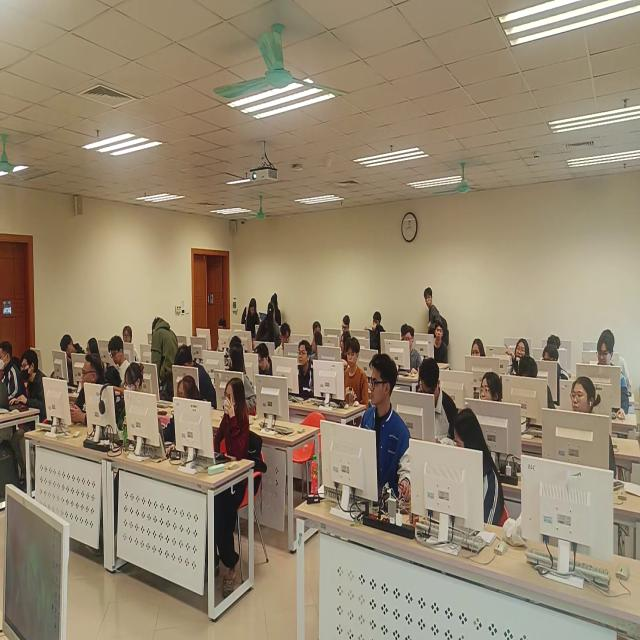raise_head: (572, 374, 622, 482), (70, 355, 103, 429), (296, 338, 316, 400), (479, 369, 506, 413), (506, 336, 532, 379), (123, 323, 143, 364), (435, 326, 451, 365), (470, 336, 489, 366)
stand: (150, 314, 179, 391), (426, 282, 449, 339), (240, 293, 260, 341)
using_computer: (360, 354, 412, 516), (456, 404, 506, 534), (216, 375, 254, 468), (419, 357, 457, 448), (162, 370, 202, 450), (596, 334, 631, 424), (177, 339, 219, 411), (117, 361, 148, 448), (21, 348, 50, 424), (343, 337, 371, 411), (541, 345, 571, 386), (109, 335, 129, 389), (60, 334, 79, 387), (257, 339, 274, 386), (405, 324, 421, 373), (370, 307, 385, 349), (215, 316, 230, 353), (342, 310, 352, 340)
